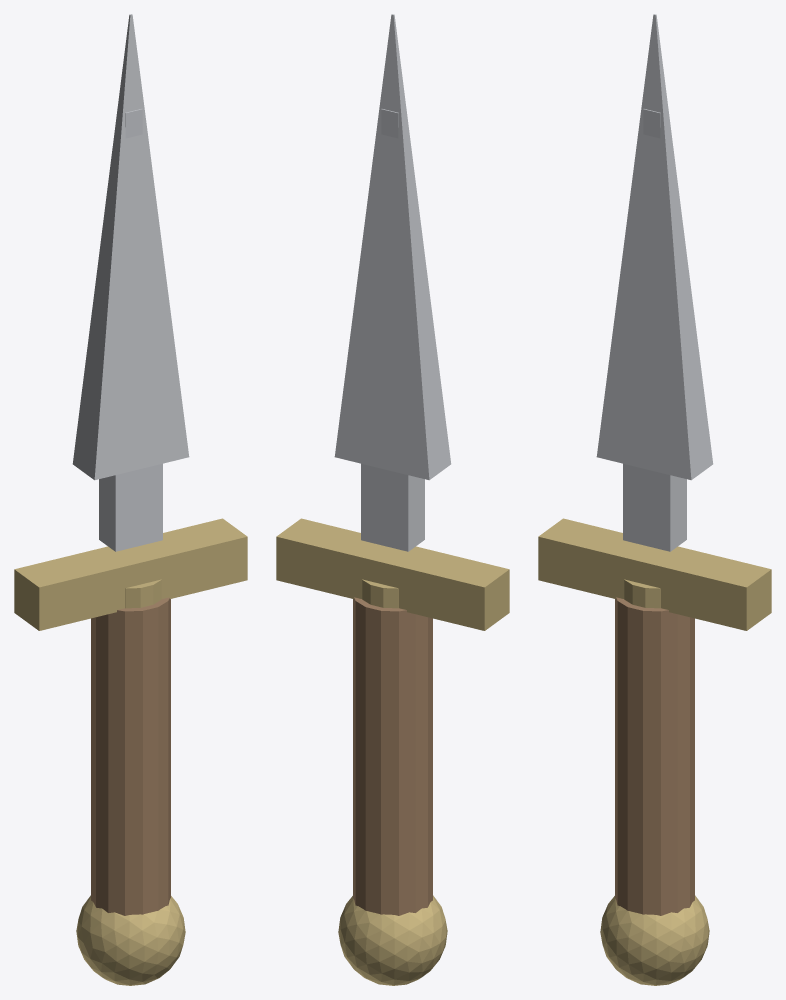
The model's file is simple_dagger.glb.
The picture shows the model from 3 angles, left to right: view 1: azimuth 30°, elevation 25°; view 2: azimuth 150°, elevation 25°; view 3: azimuth 330°, elevation 25°; orthographic projection.
Parts seen in each view (by area): view 1: Blade, Handle, Guard, Pommel, Ricasso, Collar; view 2: Blade, Handle, Guard, Pommel, Ricasso, Collar; view 3: Blade, Handle, Guard, Pommel, Ricasso, Collar.
Boxes of the visible parts, x1,y1,x2,y2 form: Blade: (72,14,189,480); Handle: (91,597,170,915); Guard: (14,518,247,630); Pommel: (76,895,185,985); Ricasso: (99,463,162,551); Collar: (125,579,161,608); Blade: (334,14,451,480); Handle: (353,597,432,915); Guard: (276,518,509,630); Pommel: (338,895,447,985); Ricasso: (361,463,424,551); Collar: (362,579,398,608); Blade: (596,14,713,480); Handle: (615,597,694,915); Guard: (538,518,771,630); Pommel: (600,895,709,985); Ricasso: (623,463,686,551); Collar: (624,579,660,608).
Bounding box in the file's own units: 0.22 × 0.975 × 0.1.
